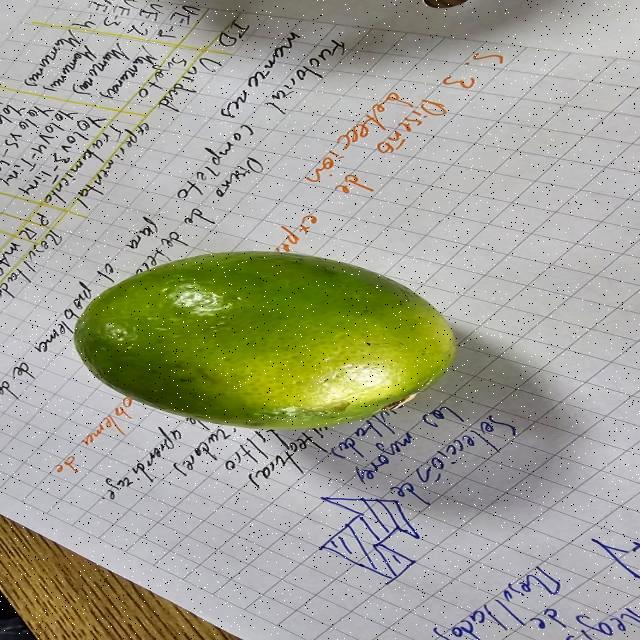Lemon: (66, 254, 474, 435)
